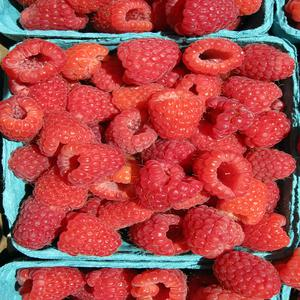raspb: (5, 38, 294, 253)
